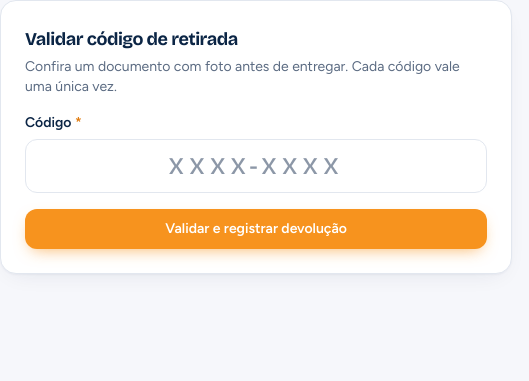
withdrawal submission › allows only one request while processing and refreshes after completion
This screenshot has width=529, height=381.
Later steps or results of the test are not shown.
Type "K7QM-4XPA" into the field labelled "Código *". click: (256, 166)
box: [25,139,487,193]
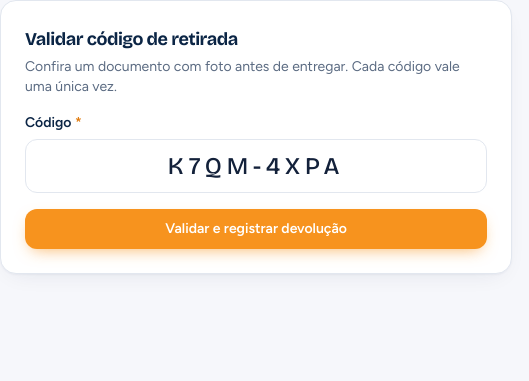
Submit the form, box [25,113,487,249]
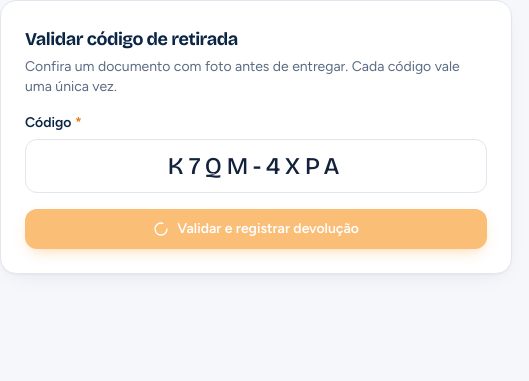
Submit the form, box [25,113,487,249]
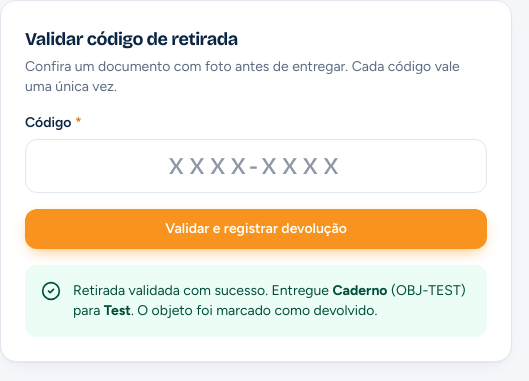
Result: the button is enabled at [25,209,487,249]
Result: the field is empty at [25,139,487,193]
